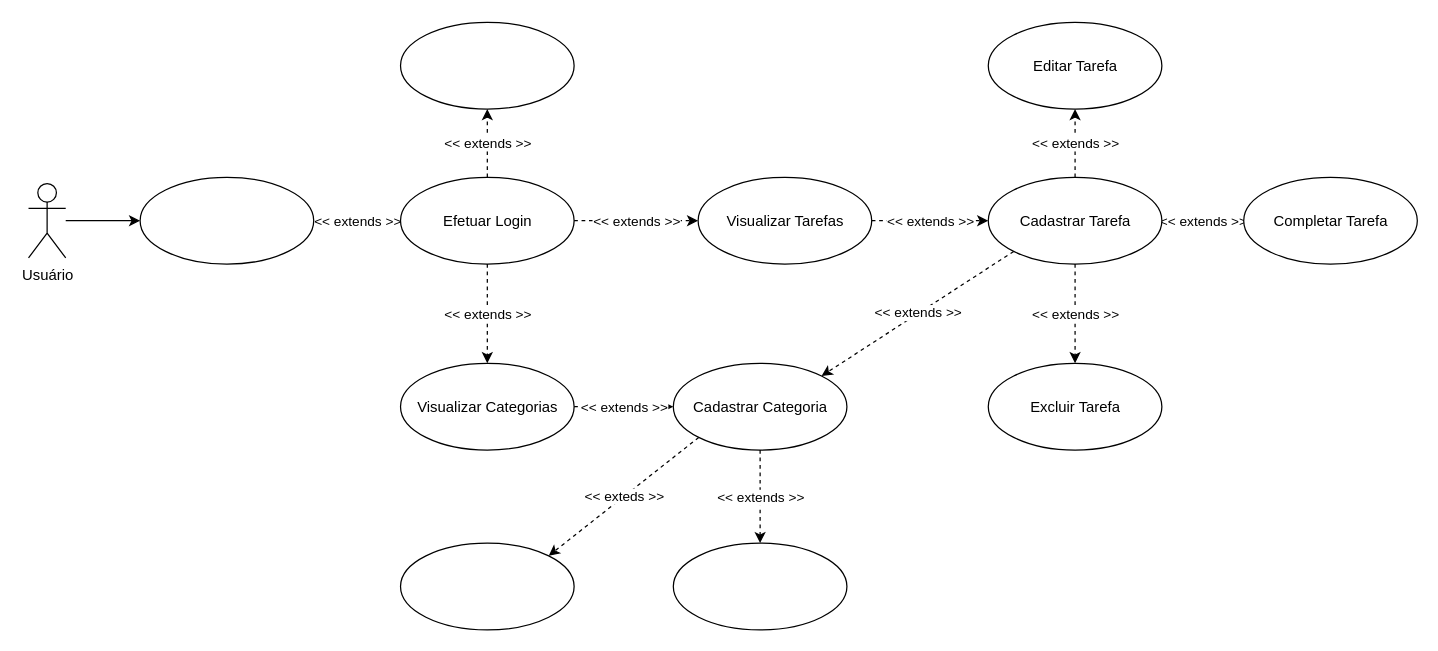
Some shapes in this 1438 by 651 pixel diagram are drawn without their labels. Each missing label, with the centre of its shape:
"Editar Categoria" goes at pixel 759 586.
"Efetuar Cadastro" goes at pixel 226 220.
"Efetuar Logout" goes at pixel 486 65.
"Excluir Categoria" goes at pixel 486 586.
